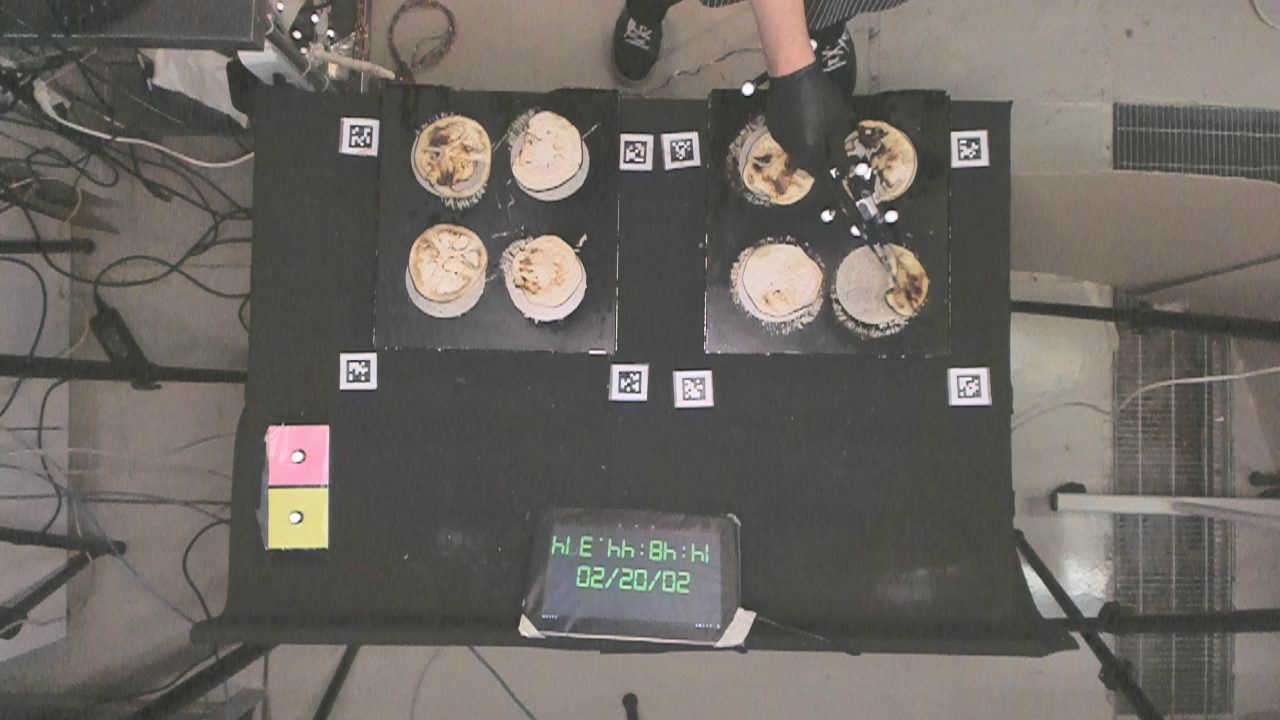eggplant: (408, 224, 494, 305), (414, 115, 492, 201), (511, 109, 584, 193), (742, 240, 823, 315), (850, 119, 918, 202), (743, 129, 819, 203), (513, 239, 589, 305), (889, 244, 934, 321)
marker: (269, 426, 329, 485)
